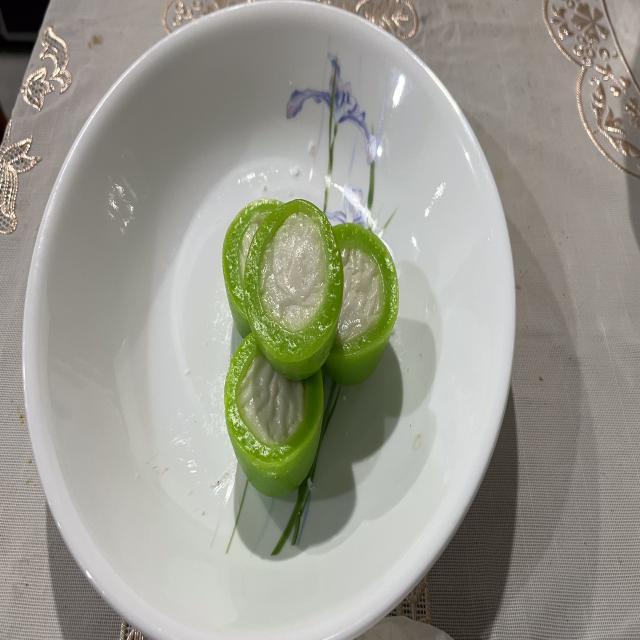nona-manis: (244, 200, 344, 380), (224, 336, 324, 498), (325, 222, 399, 384), (222, 200, 281, 338)
